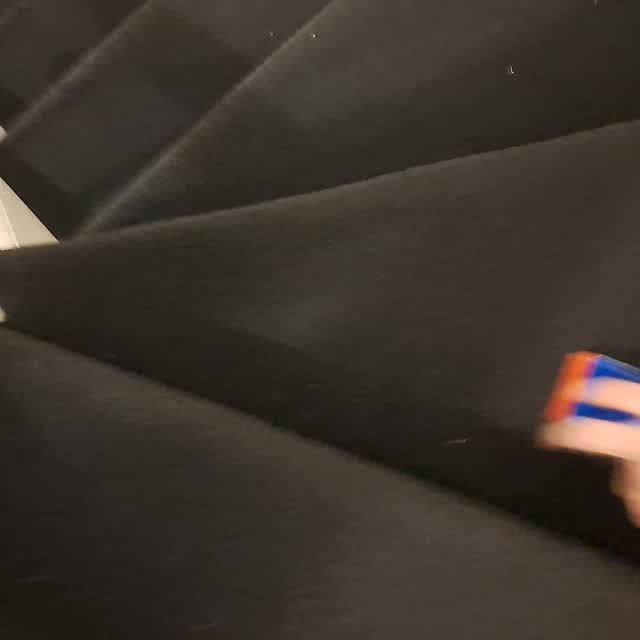rubix_cube: (538, 344, 640, 455)
